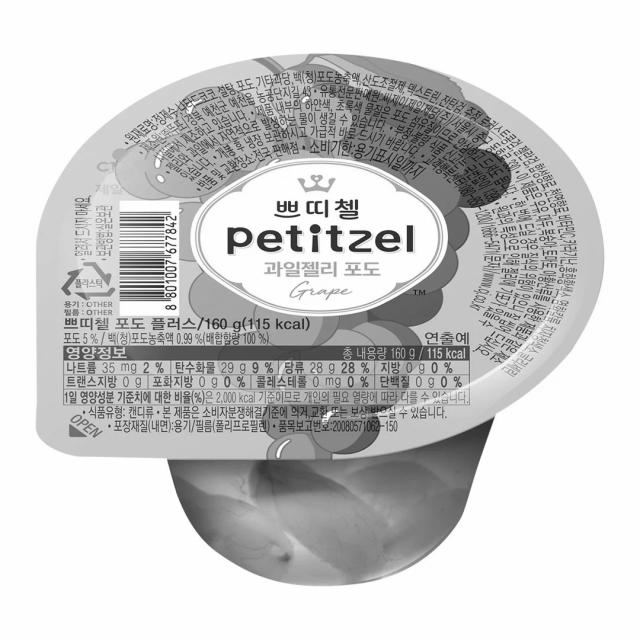Nutrition Label: (54, 342, 475, 408)
